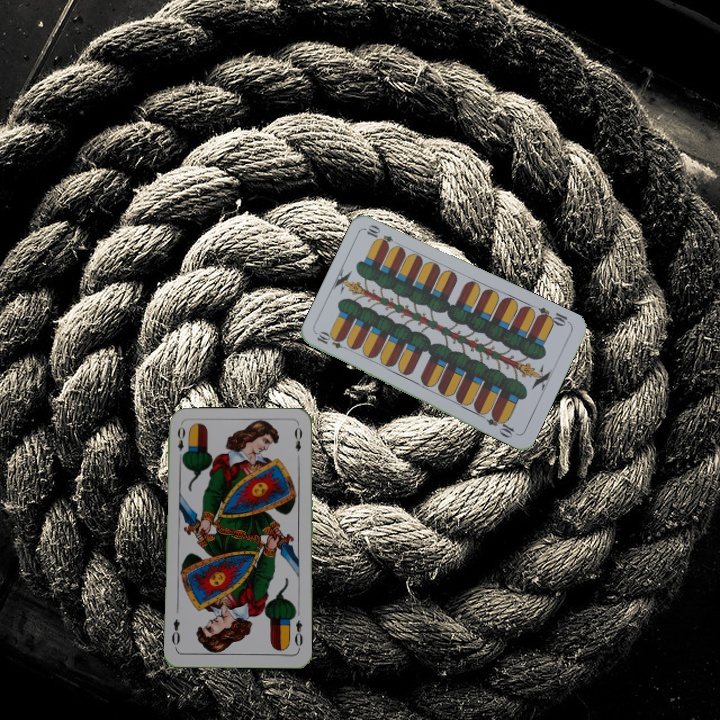E10: (533, 303, 573, 329), (313, 329, 352, 353)
EO: (173, 423, 188, 462), (291, 616, 305, 652)
